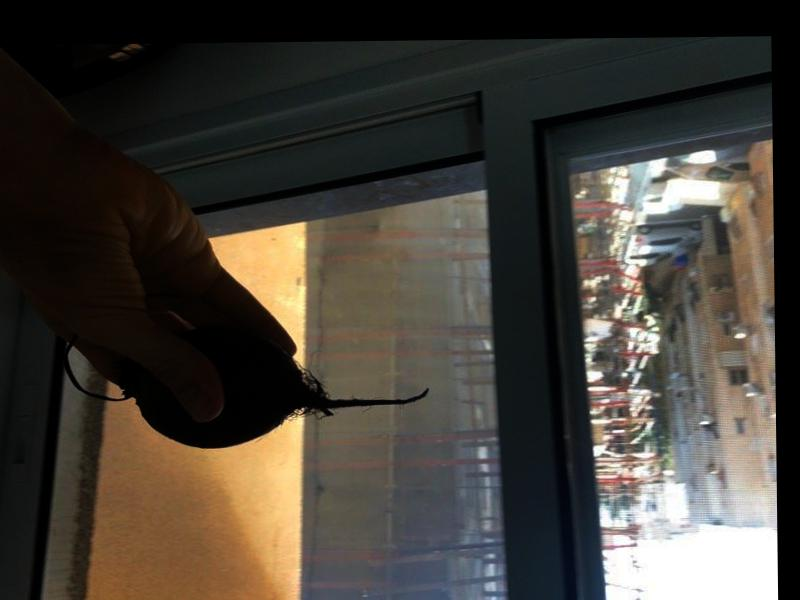Beet: (63, 288, 430, 450)
